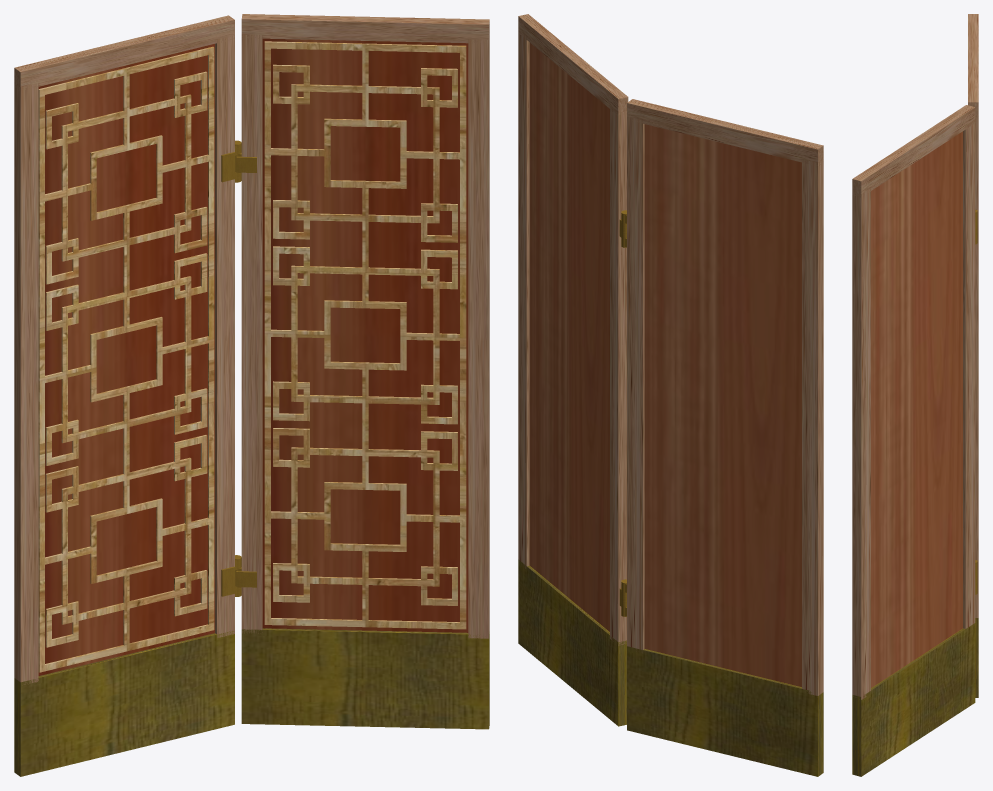
Rendered from Other_Folding_screen__0000.glb.
3 renders of one model, left to right at view 1: azimuth 30°, elevation 25°; view 2: azimuth 150°, elevation 25°; view 3: azimuth 270°, elevation 25°, orthographic. The views are drawn at different scales.
Parts seen in each view (by area): view 1: panel_1::lattice_field, panel_0::lattice_field, panel_1::fretwork, panel_0::fretwork, panel_1::bottom_rail, panel_0::bottom_rail, panel_0::stile_0, panel_1::stile_1, panel_1::stile_0, panel_0::stile_1, panel_1::top_rail, panel_0::top_rail; view 2: panel_0::lattice_field, panel_1::lattice_field, panel_0::bottom_rail, panel_0::stile_0, panel_0::stile_1, panel_1::bottom_rail, panel_1::stile_0, panel_1::stile_1, panel_0::top_rail, panel_1::top_rail; view 3: panel_1::lattice_field, panel_1::bottom_rail, panel_1::stile_1, panel_1::stile_0, panel_1::top_rail, panel_0::stile_1, panel_0::top_rail, panel_0::bottom_rail.
Part boxes in pixels (x1,y1,x2,y2): panel_1::lattice_field: (262, 38, 468, 632); panel_0::lattice_field: (38, 44, 214, 675); panel_1::fretwork: (264, 41, 466, 629); panel_0::fretwork: (38, 46, 214, 672); panel_1::bottom_rail: (241, 628, 489, 729); panel_0::bottom_rail: (14, 631, 234, 776); panel_0::stile_0: (14, 83, 38, 684); panel_1::stile_1: (468, 39, 489, 638); panel_1::stile_0: (241, 34, 262, 633); panel_0::stile_1: (215, 35, 234, 637); panel_1::top_rail: (241, 14, 489, 43); panel_0::top_rail: (14, 15, 234, 90); panel_0::lattice_field: (644, 124, 801, 686); panel_1::lattice_field: (529, 42, 609, 631); panel_0::bottom_rail: (627, 646, 823, 776); panel_0::stile_0: (802, 159, 823, 695); panel_0::stile_1: (627, 116, 644, 652); panel_1::bottom_rail: (518, 559, 626, 726); panel_1::stile_0: (610, 106, 626, 645); panel_1::stile_1: (518, 33, 529, 568); panel_0::top_rail: (627, 99, 823, 165); panel_1::top_rail: (518, 14, 628, 115); panel_1::lattice_field: (871, 131, 962, 687); panel_1::bottom_rail: (852, 623, 975, 776); panel_1::stile_1: (852, 188, 870, 699); panel_1::stile_0: (963, 121, 975, 628); panel_1::top_rail: (852, 105, 975, 197); panel_0::stile_1: (975, 115, 978, 617); panel_0::top_rail: (968, 14, 978, 118); panel_0::bottom_rail: (975, 618, 978, 697).
Size of the model in its own units: 1.12 by 1.86 by 0.3579.
Materials: 5 (5 with a texture image).
